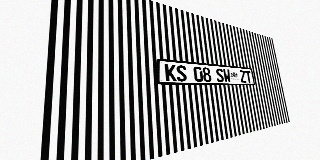plate: (156, 58, 255, 85)
